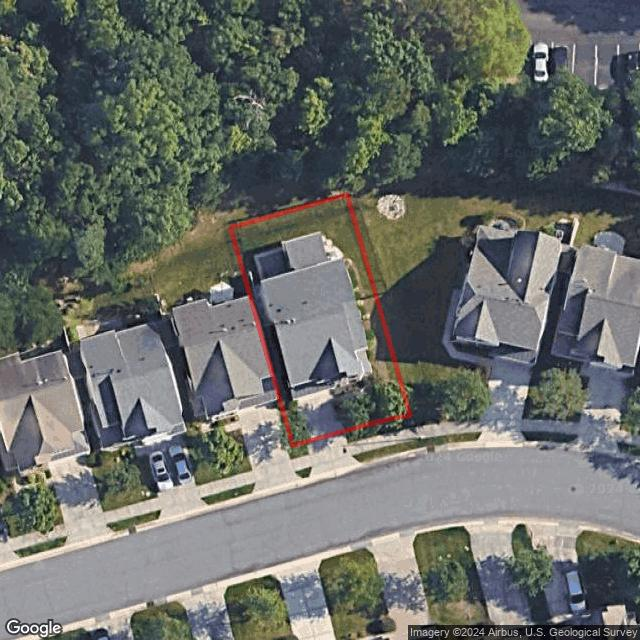Driveway: (295, 388, 346, 442)
Extra-Driveway: (307, 430, 361, 478)
Extra-Lawn: (347, 413, 415, 442), (353, 439, 425, 463), (294, 441, 308, 458), (302, 467, 313, 478)
Extra-Sidewalk: (348, 426, 420, 456), (294, 455, 311, 472)
House: (260, 231, 374, 400)
Lawn: (230, 195, 410, 445)
Other: (336, 256, 389, 406), (255, 244, 292, 282), (322, 235, 346, 261)
Sidewalk: (331, 379, 352, 395)
